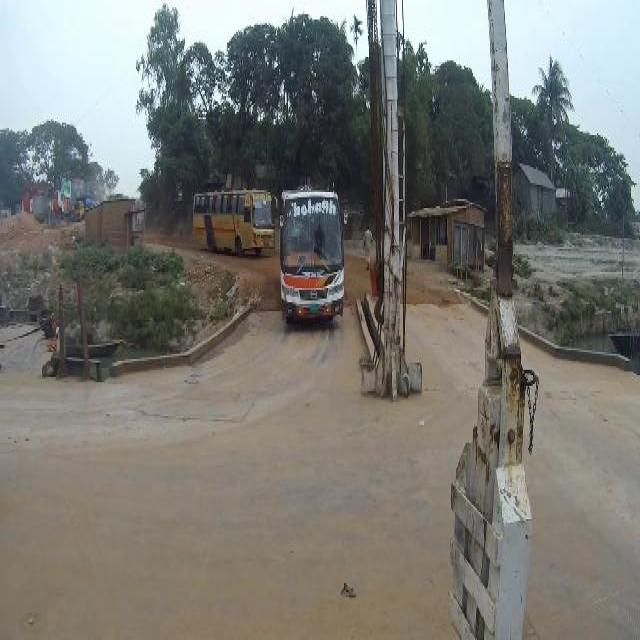bus: (280, 184, 344, 321), (190, 188, 276, 252)
truck: (72, 195, 91, 221)
